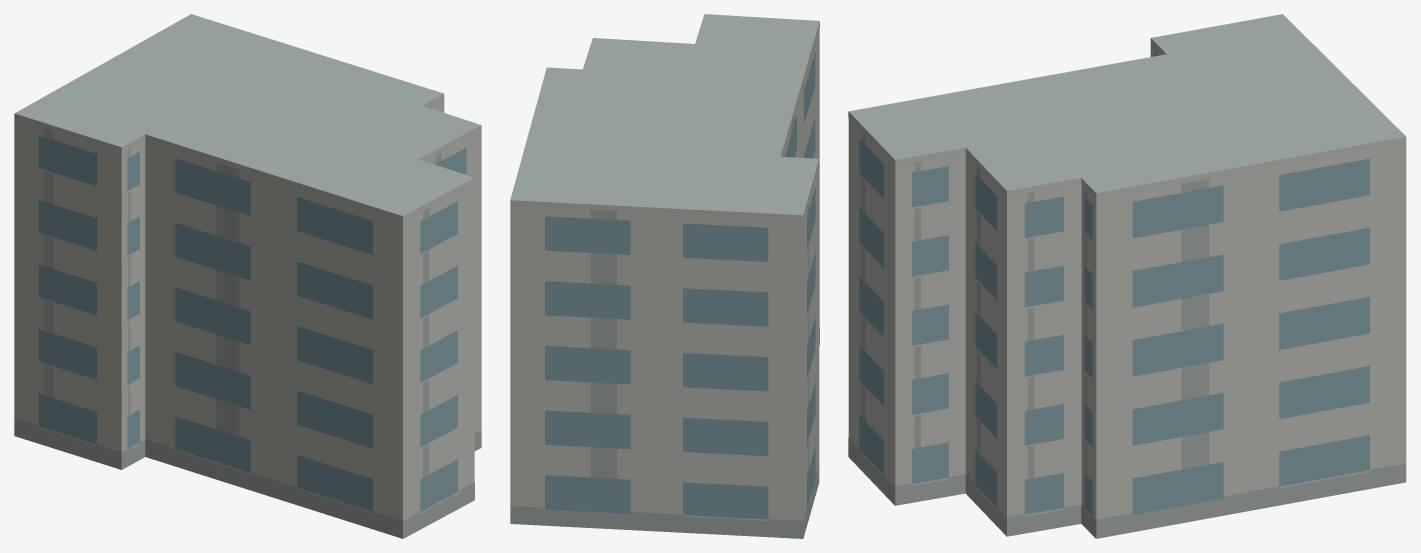
Rendered from survey-upis-32594324.glb.
3 renders of one model, left to right at view 1: azimuth 30°, elevation 25°; view 2: azimuth 150°, elevation 25°; view 3: azimuth 270°, elevation 25°, orthographic. The views are drawn at different scales.
Parts seen in each view (by area): view 1: survey-upis-32594324.tmp; view 2: survey-upis-32594324.tmp; view 3: survey-upis-32594324.tmp.
Part boxes in pixels (x1,y1,x2,y2): survey-upis-32594324.tmp: [14, 14, 481, 538]; survey-upis-32594324.tmp: [510, 14, 819, 538]; survey-upis-32594324.tmp: [848, 14, 1406, 538].
Bounding box in the file's own units: 15.73 × 14.14 × 20.69.
